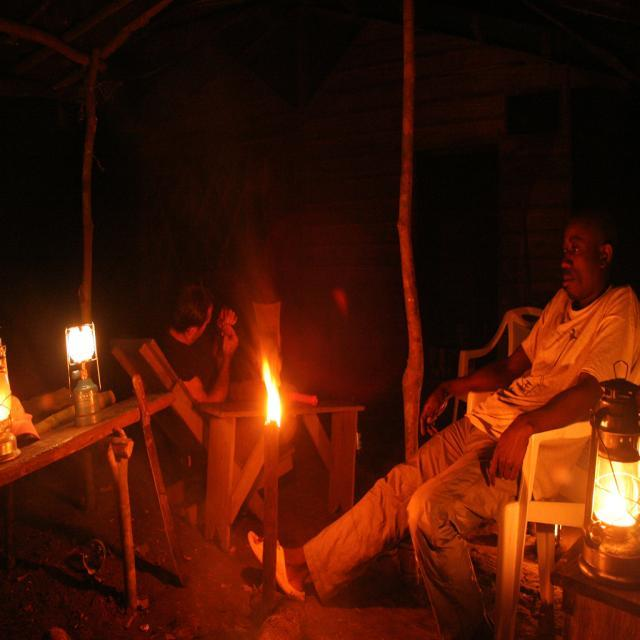Fire: (602, 480, 632, 530), (264, 372, 284, 429), (68, 322, 90, 359)
